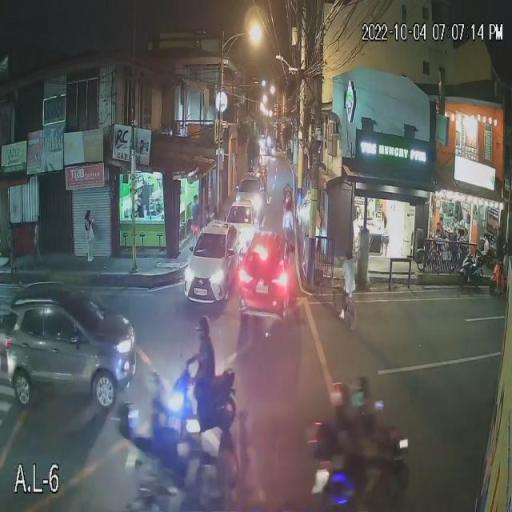helmet: (356, 370, 374, 412), (190, 316, 214, 339), (180, 392, 198, 422), (143, 368, 163, 394), (330, 382, 350, 407)
motorcycle: (308, 426, 413, 512), (106, 440, 230, 512), (176, 368, 238, 430)
rider: (142, 364, 172, 468), (326, 376, 352, 469), (356, 370, 384, 454), (178, 391, 200, 472), (194, 314, 214, 400)
